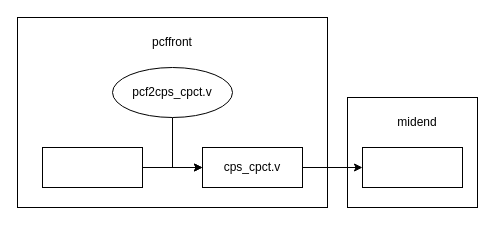
This 495x225 diagram has some shape labels left out. Here are the shapes that lost their labels. From the top down, the centre of each, then its label:
At (92,167): "pcf_cpct.v".
At (412,167): "SSA.v".
